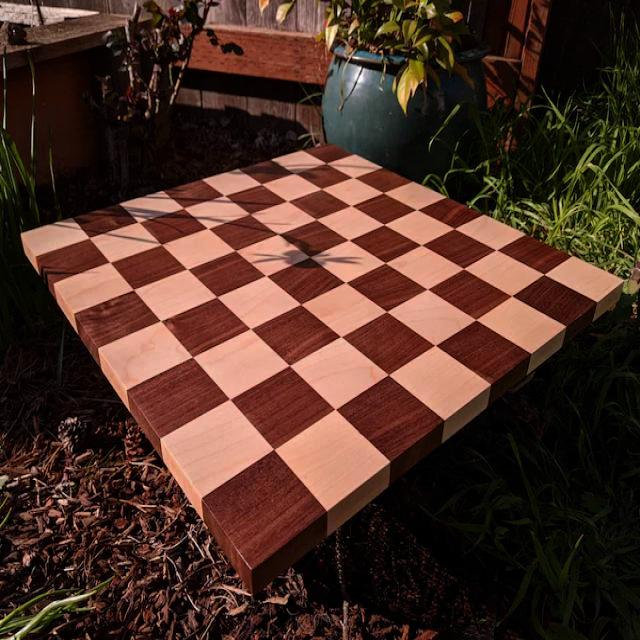chess-table-corners: (230, 526, 295, 600), (580, 251, 638, 328), (19, 222, 71, 280), (309, 138, 358, 172)
